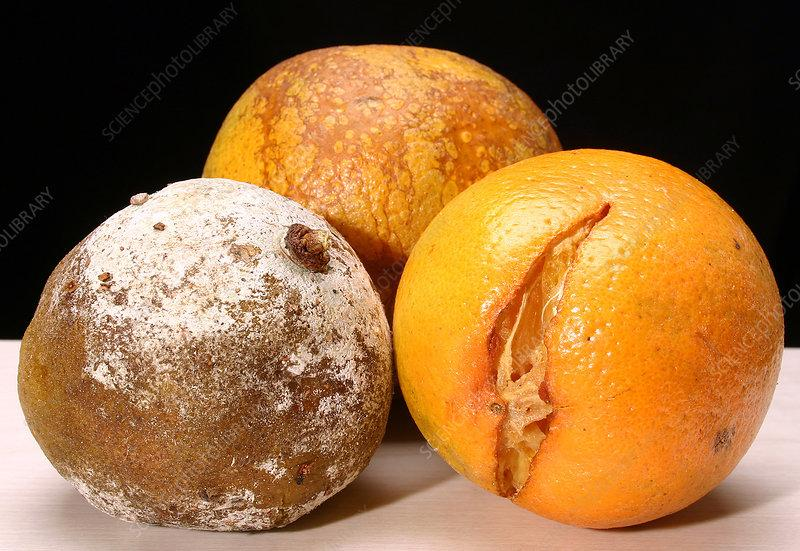Orange Rotten: (382, 143, 800, 533), (7, 167, 404, 543), (174, 34, 566, 274)
